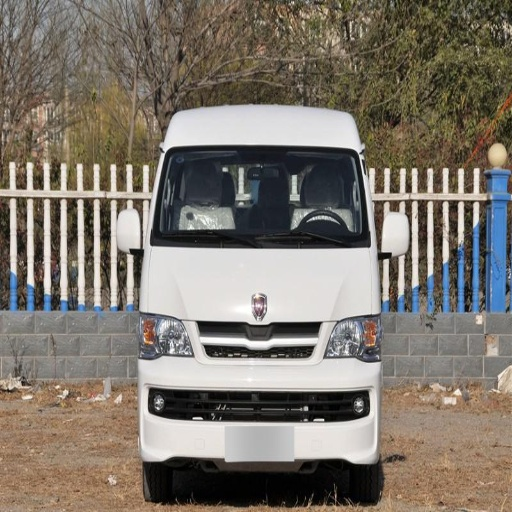front_bumper: (140, 292, 381, 472)
front_right_light: (138, 312, 192, 357)
hood: (237, 248, 376, 320), (149, 248, 264, 323)
left_mirror: (380, 212, 410, 258)
trunk: (187, 250, 246, 280)
